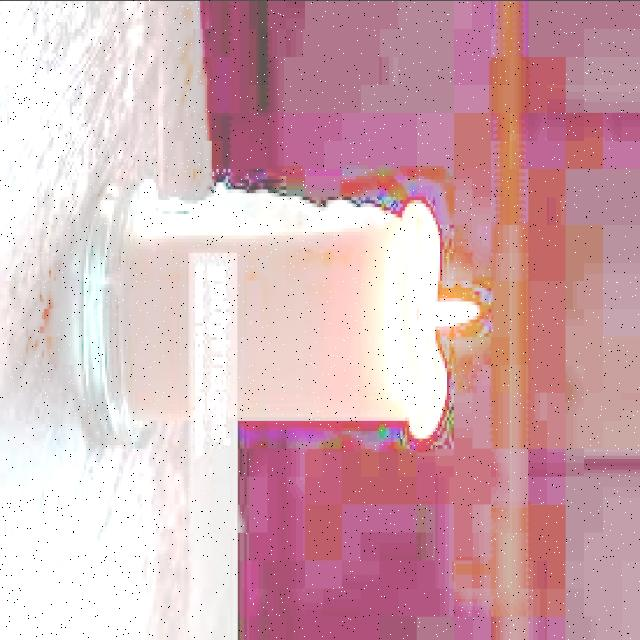api: (415, 291, 485, 337)
